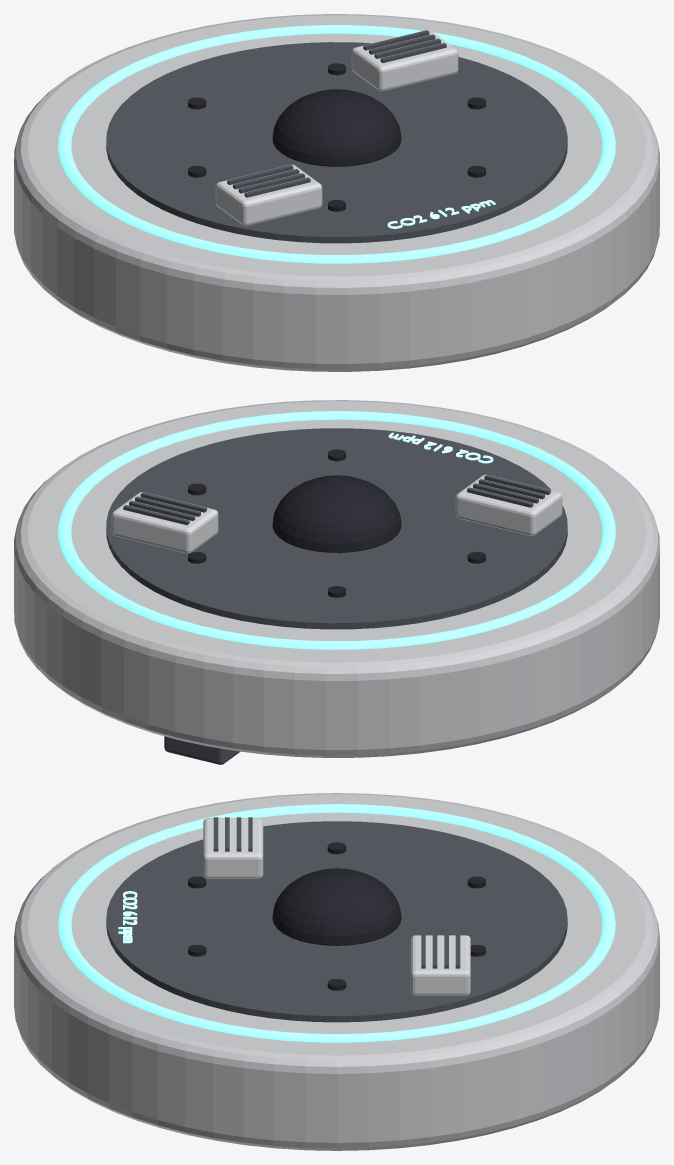
Rendered from zone_sensor_pod.glb.
3 views of the same model, one above another, from view 1: azimuth 30°, elevation 25°; view 2: azimuth 150°, elevation 25°; view 3: azimuth 270°, elevation 25° (orthographic).
Parts seen in each view (by area): view 1: Pod_Body, Pod_Face, Status_Ring, Camera_Dome, CO2_Sensor_A, CO2_Sensor_B, CO2_Readout; view 2: Pod_Body, Pod_Face, Status_Ring, Camera_Dome, CO2_Sensor_A, CO2_Sensor_B, UWB_Anchor, CO2_Readout; view 3: Pod_Body, Pod_Face, Status_Ring, Camera_Dome, CO2_Sensor_A, CO2_Sensor_B, CO2_Readout.
Boxes of the visible parts, x1,y1,x2,y2 form: Pod_Body: [14, 14, 659, 371]; Pod_Face: [106, 42, 567, 243]; Status_Ring: [58, 25, 615, 263]; Camera_Dome: [272, 89, 401, 166]; CO2_Sensor_A: [215, 164, 322, 226]; CO2_Sensor_B: [351, 30, 458, 91]; CO2_Readout: [387, 200, 495, 228]; Pod_Body: [14, 400, 659, 757]; Pod_Face: [106, 428, 567, 629]; Status_Ring: [58, 411, 615, 649]; Camera_Dome: [272, 475, 401, 552]; CO2_Sensor_A: [455, 474, 562, 536]; CO2_Sensor_B: [111, 492, 218, 553]; UWB_Anchor: [164, 736, 239, 764]; CO2_Readout: [388, 432, 493, 463]; Pod_Body: [14, 793, 659, 1150]; Pod_Face: [106, 821, 567, 1022]; Status_Ring: [58, 804, 615, 1042]; Camera_Dome: [272, 868, 401, 945]; CO2_Sensor_A: [203, 818, 263, 878]; CO2_Sensor_B: [410, 935, 470, 995]; CO2_Readout: [118, 891, 137, 943].
Bounding box in the file's own units: 0.28 × 0.0816 × 0.28.
